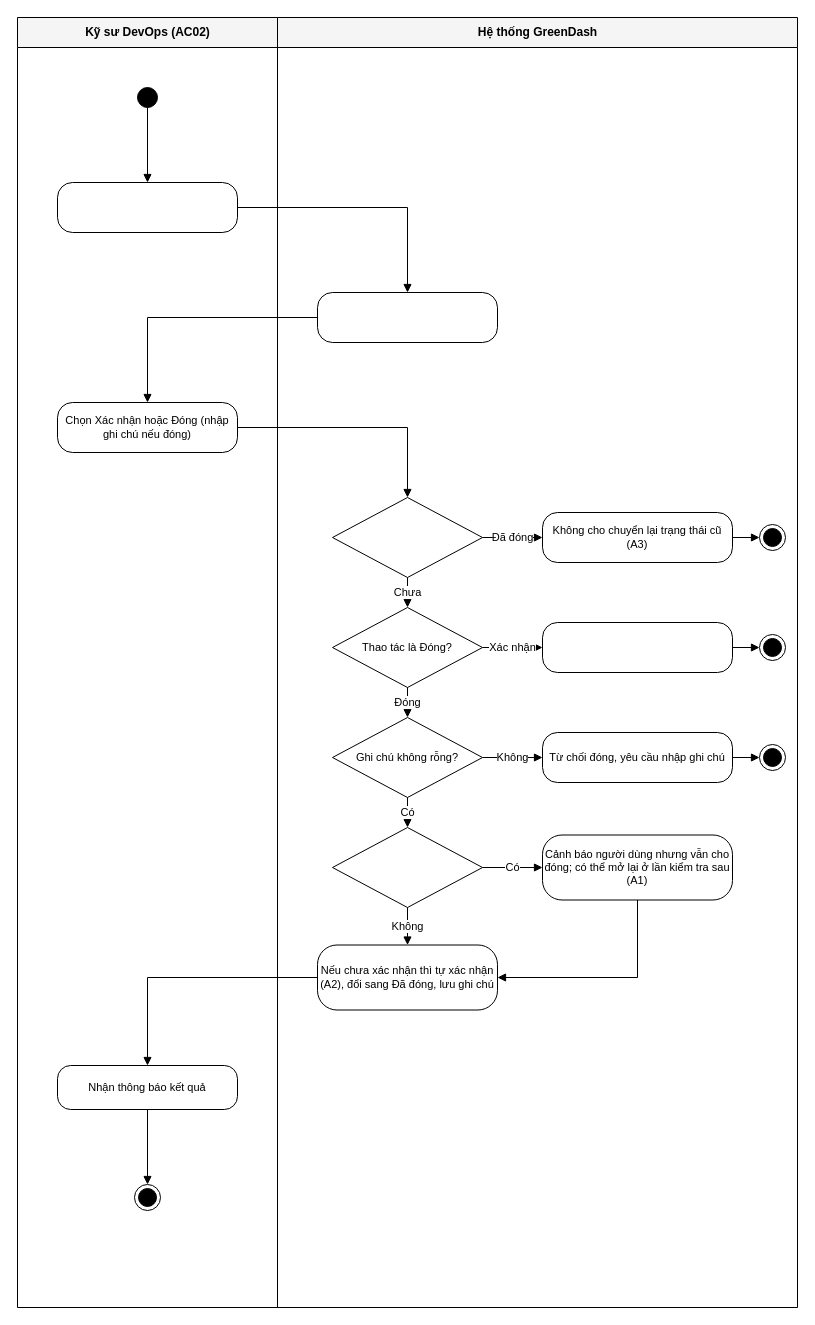
This 815x1325 diagram has some shape labels left out. Here are the shapes that lost their labels. From the top down, the box of each, then its label:
(56, 182, 238, 232): Mở danh sách cảnh báo, chọn một cảnh báo
(316, 292, 498, 342): Hiển thị chi tiết và biểu đồ lân cận
(332, 496, 482, 578): Cảnh báo đã đóng?
(542, 622, 732, 672): Đổi sang Đã xác nhận, lưu người xử lý và thời điểm
(332, 826, 482, 908): Giá trị còn vượt ngưỡng?
